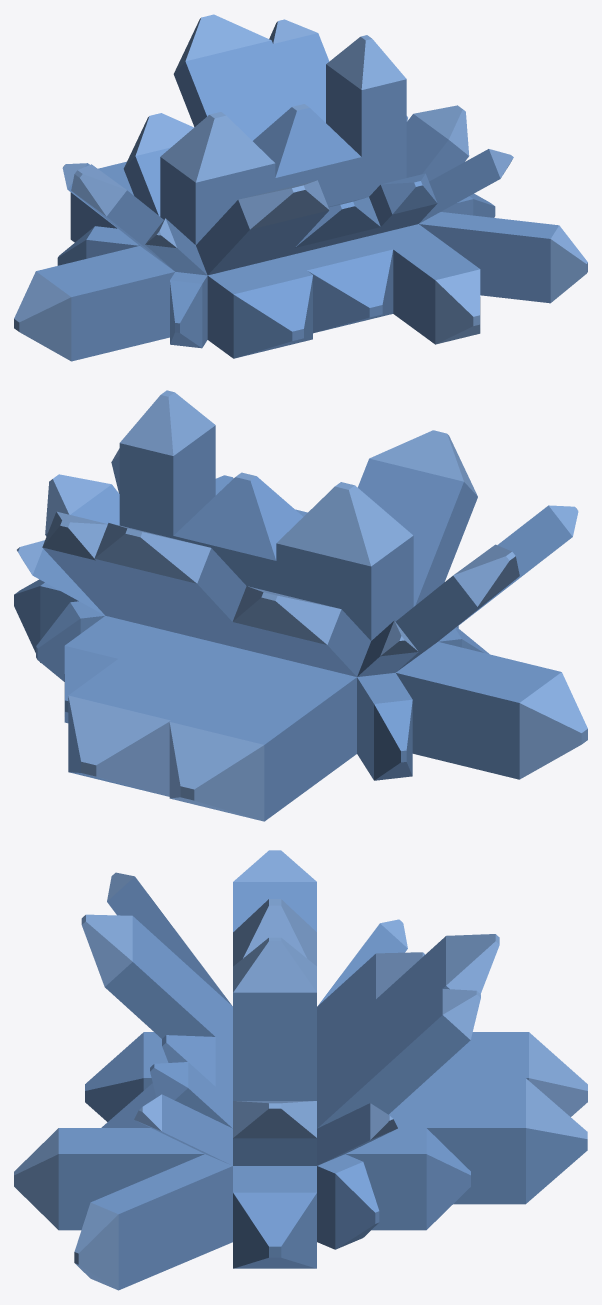
Rendered from crystal_21.fbx.
3 renders of one model, top to bottom at view 1: azimuth 30°, elevation 25°; view 2: azimuth 150°, elevation 25°; view 3: azimuth 270°, elevation 25°, orthographic. The views are drawn at different scales.
Visible parts, largest first — view 1: crystal_21; view 2: crystal_21; view 3: crystal_21.
Part boxes in pixels (x1,y1,x2,y2): crystal_21: (14,14,587,361); crystal_21: (14,390,587,821); crystal_21: (14,850,587,1290).
Size of the model in its own units: 402 by 185 by 346.
